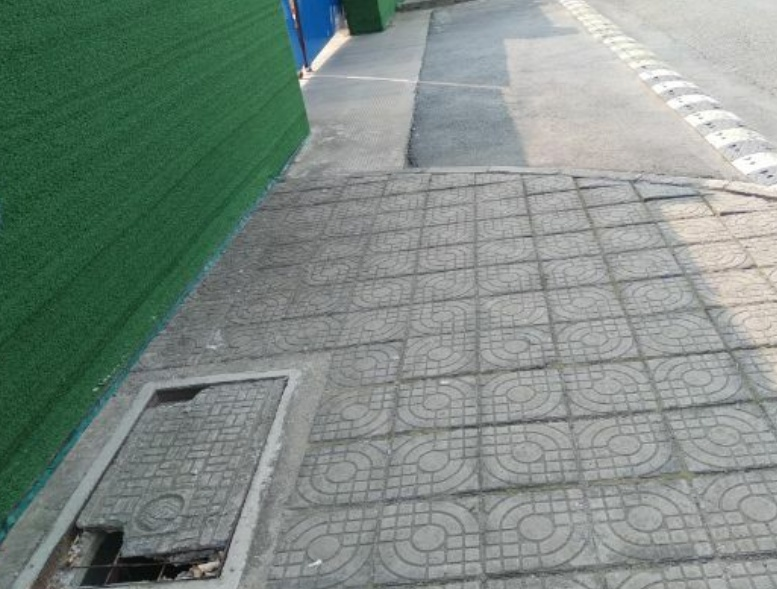broke: (10, 369, 302, 589)
